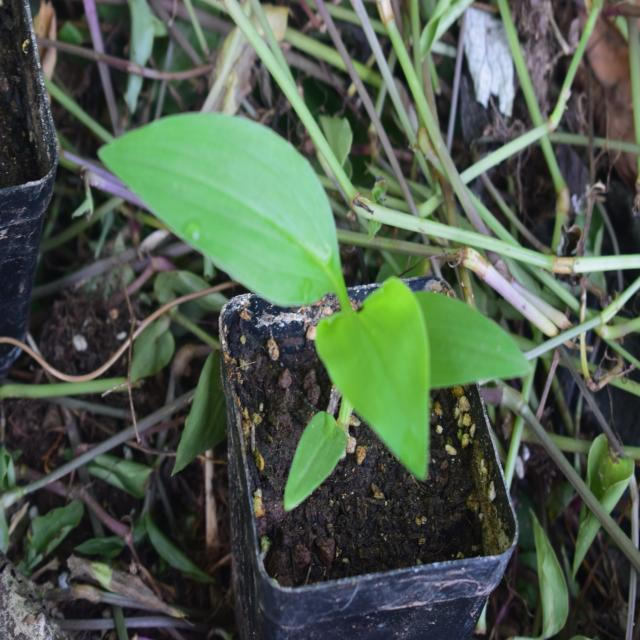Common Dayflower: (99, 89, 510, 475)
